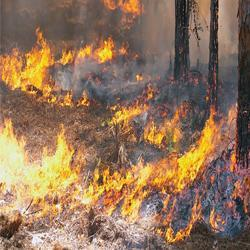fire: (2, 128, 27, 190), (7, 49, 48, 86), (36, 151, 71, 188), (178, 151, 203, 190)
